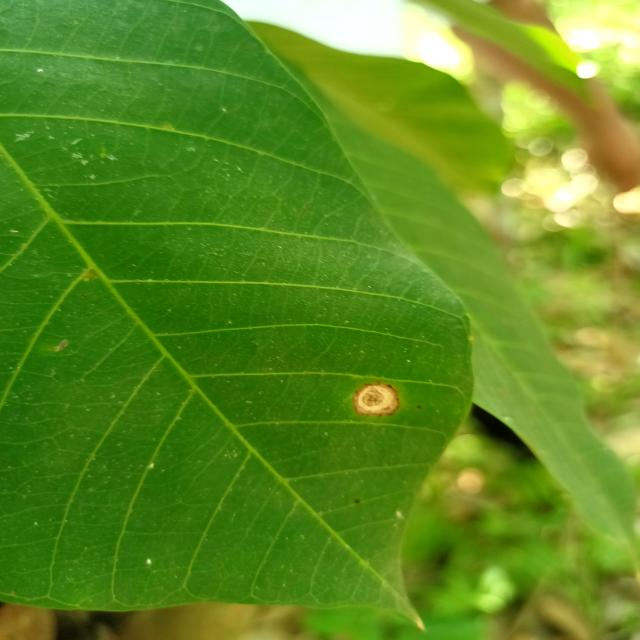Colletotrichum: (352, 383, 399, 417)
